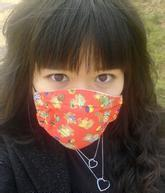OK: (35, 61, 122, 148)
